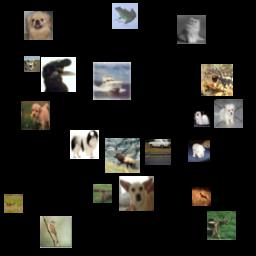airplane: (24, 56, 40, 72)
automobile: (145, 139, 171, 165)
bird: (41, 57, 76, 92), (40, 216, 72, 248)
cat: (177, 15, 206, 44)
deer: (105, 138, 140, 173), (207, 211, 236, 240), (192, 187, 211, 206), (93, 184, 112, 203), (4, 194, 23, 213)
dog: (119, 176, 154, 211), (70, 130, 99, 159), (21, 101, 50, 130), (24, 11, 53, 40), (214, 99, 243, 128), (188, 140, 210, 162), (194, 111, 210, 127)
frog: (201, 64, 233, 96), (112, 3, 138, 29)
ship: (93, 62, 131, 100)
